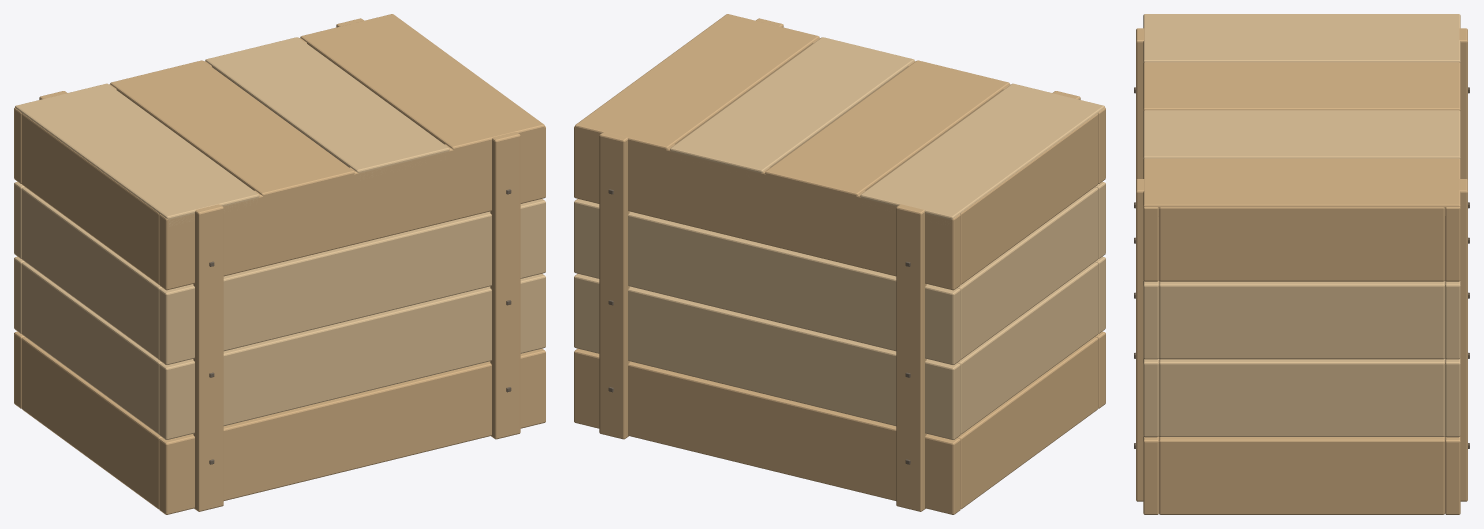
Rendered from arena-props.glb.
3 views of the same model, side by side, from view 1: azimuth 30°, elevation 25°; view 2: azimuth 150°, elevation 25°; view 3: azimuth 270°, elevation 25° (orthographic). The views are drawn at different scales.
Parts seen in each view (by area): view 1: Oak end grain.003, Oak worn boards.003; view 2: Oak end grain.003, Oak worn boards.003; view 3: Oak end grain.003, Oak worn boards.003.
Boxes of the visible parts, x1,y1,x2,y2 form: Oak end grain.003: (14, 14, 545, 514); Oak worn boards.003: (14, 37, 545, 439); Oak end grain.003: (574, 14, 1105, 514); Oak worn boards.003: (574, 37, 1105, 439); Oak end grain.003: (1136, 28, 1467, 514); Oak worn boards.003: (1143, 14, 1460, 437).
Size of the model in its own units: 1.05 by 0.7905 by 0.773.
